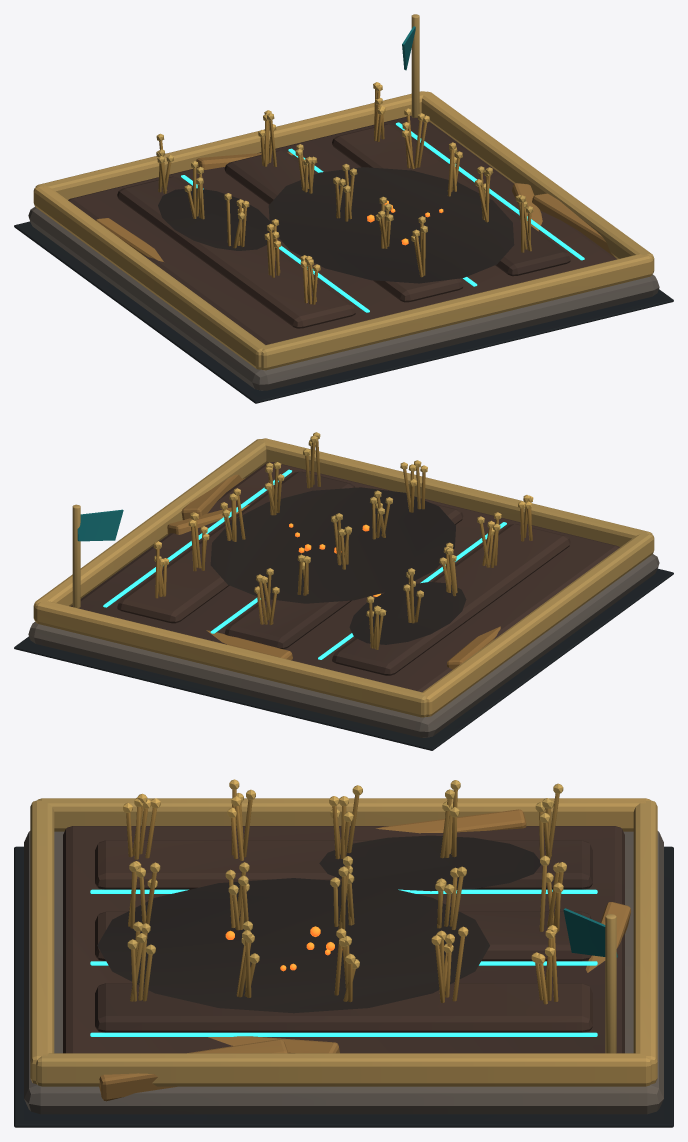
The model's file is sunwoven_farm.glb.
3 renders of one model, top to bottom at view 1: azimuth 30°, elevation 25°; view 2: azimuth 150°, elevation 25°; view 3: azimuth 270°, elevation 25°, orthographic. The views are drawn at different scales.
Visible parts, largest first — view 1: farm_critical_burn, farm_soil, farm_base, farm_kerb_y_-1, farm_furrow_0, farm_kerb_y_1, farm_kerb_x_-1, farm_furrow_2, farm_kerb_x_1, farm_contact_pad, farm_damage_patch, farm_wreck_contact_pad (+5 smaller); view 2: farm_critical_burn, farm_soil, farm_base, farm_kerb_y_1, farm_furrow_0, farm_kerb_y_-1, farm_kerb_x_-1, farm_contact_pad, farm_furrow_2, farm_kerb_x_1, farm_damage_patch, farm_furrow_1 (+9 smaller); view 3: farm_critical_burn, farm_soil, farm_base, farm_kerb_x_1, farm_furrow_2, farm_kerb_x_-1, farm_furrow_0, farm_contact_pad, farm_damage_patch, farm_kerb_y_1, farm_kerb_y_-1, farm_wreck_contact_pad (+10 smaller).
Boxes of the visible parts, bbox=[...] form: farm_critical_burn: bbox=[268, 167, 514, 283]; farm_soil: bbox=[68, 115, 616, 344]; farm_base: bbox=[28, 207, 659, 390]; farm_kerb_y_-1: bbox=[261, 254, 652, 370]; farm_furrow_0: bbox=[117, 176, 355, 328]; farm_kerb_y_1: bbox=[35, 91, 426, 199]; farm_kerb_x_-1: bbox=[33, 185, 266, 369]; farm_furrow_2: bbox=[332, 124, 570, 276]; farm_kerb_x_1: bbox=[421, 91, 654, 273]; farm_contact_pad: bbox=[14, 221, 673, 403]; farm_damage_patch: bbox=[158, 188, 272, 250]; farm_wreck_contact_pad: bbox=[24, 224, 663, 397]; farm_critical_burn: bbox=[210, 487, 455, 603]; farm_soil: bbox=[71, 462, 619, 692]; farm_base: bbox=[28, 554, 659, 737]; farm_kerb_y_1: bbox=[35, 600, 426, 717]; farm_furrow_0: bbox=[332, 524, 570, 675]; farm_kerb_y_-1: bbox=[261, 438, 652, 547]; farm_kerb_x_-1: bbox=[421, 533, 654, 716]; farm_contact_pad: bbox=[14, 568, 673, 750]; farm_furrow_2: bbox=[117, 471, 354, 623]; farm_kerb_x_1: bbox=[33, 439, 266, 620]; farm_damage_patch: bbox=[349, 582, 466, 644]; farm_furrow_1: bbox=[224, 503, 463, 649]; farm_critical_burn: bbox=[97, 878, 489, 1013]; farm_soil: bbox=[63, 826, 624, 1053]; farm_base: bbox=[24, 831, 663, 1114]; farm_kerb_x_1: bbox=[36, 1053, 651, 1086]; farm_furrow_2: bbox=[95, 983, 592, 1032]; farm_kerb_x_-1: bbox=[37, 798, 650, 831]; farm_furrow_0: bbox=[95, 840, 592, 889]; farm_contact_pad: bbox=[14, 846, 673, 1127]; farm_damage_patch: bbox=[319, 835, 541, 891]; farm_kerb_y_1: bbox=[633, 800, 657, 1084]; farm_kerb_y_-1: bbox=[30, 800, 54, 1084]; farm_wreck_contact_pad: bbox=[24, 1099, 663, 1120].
Size of the model in its own units: 7.22 by 2.24 by 7.22.
